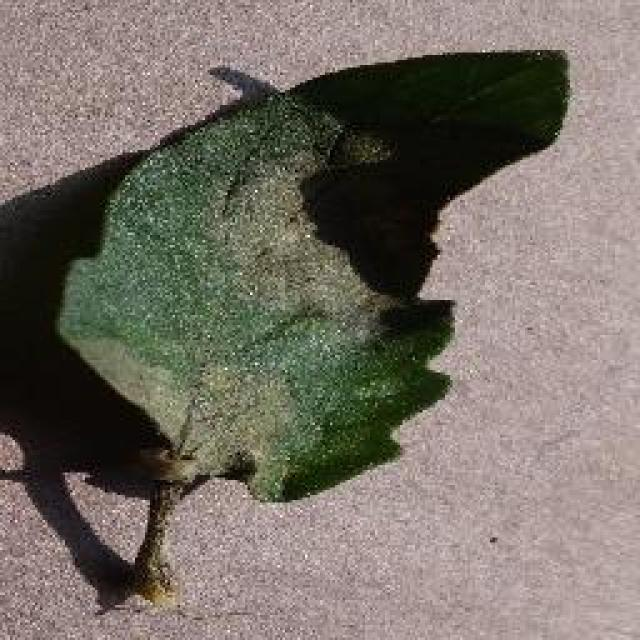Tomato Late Blight: (103, 97, 390, 478)
